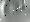person: (1, 1, 7, 18), (20, 2, 25, 14), (11, 3, 15, 16)
